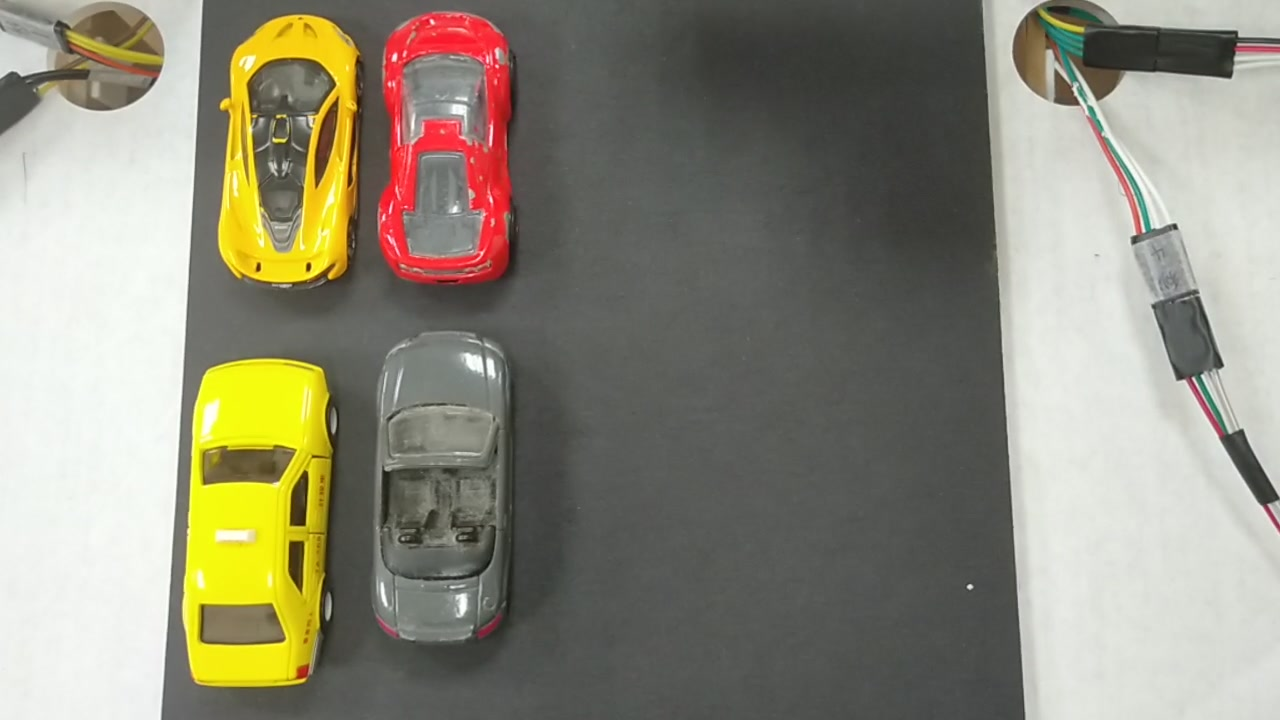car: (181, 370, 324, 689), (371, 336, 512, 639), (219, 11, 358, 282), (382, 21, 513, 278)
